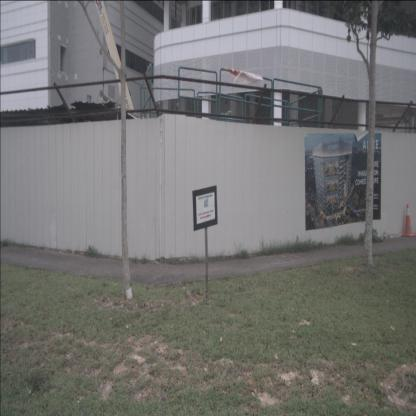movable_object-trafficcone: (401, 204, 415, 238)
